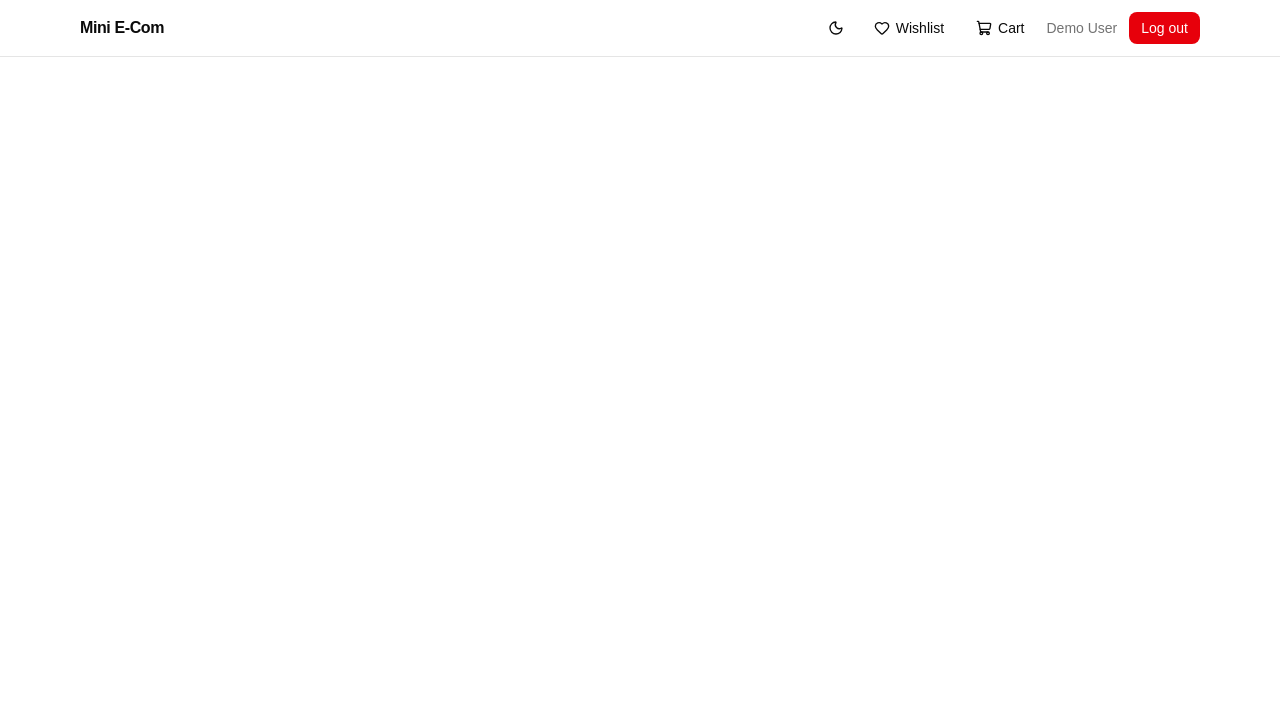
Scenario: Header › opens the cart sheet from the cart icon
Click the button "Cart".
click(1000, 28)  # box [966,12,1034,44]
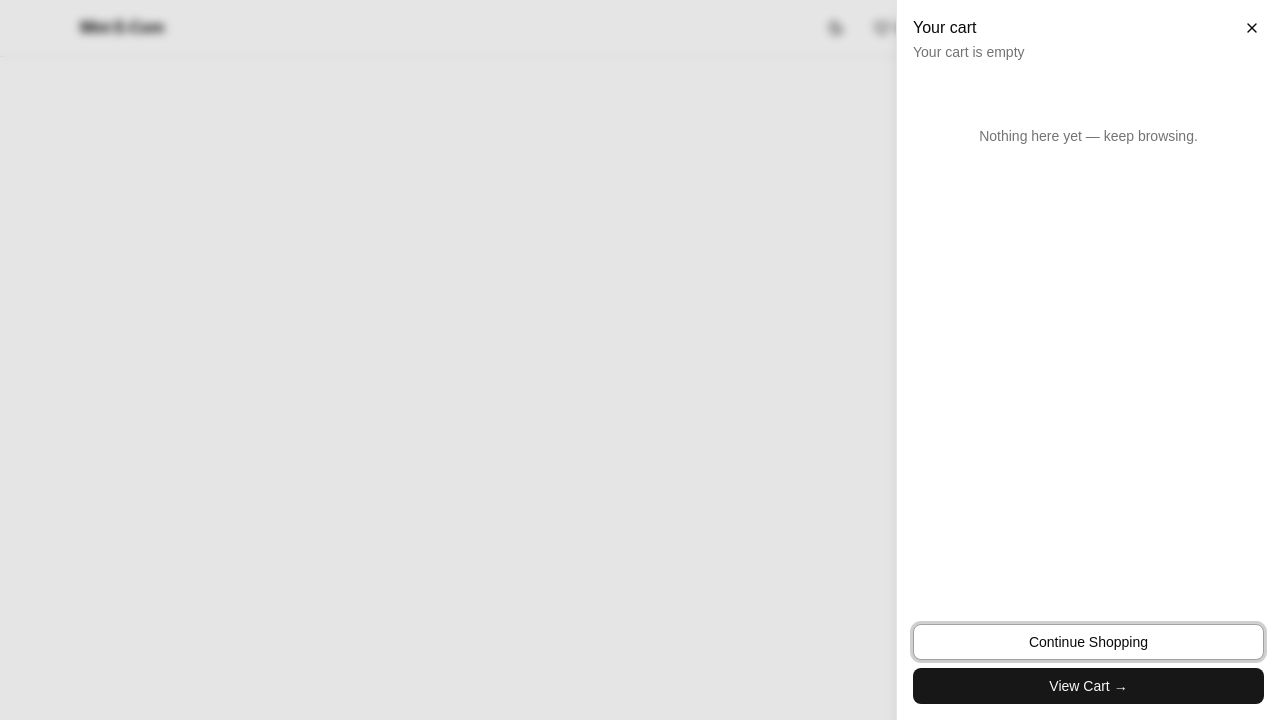
Check: the button "Continue Shopping" is shown, box [913,624,1264,660]
